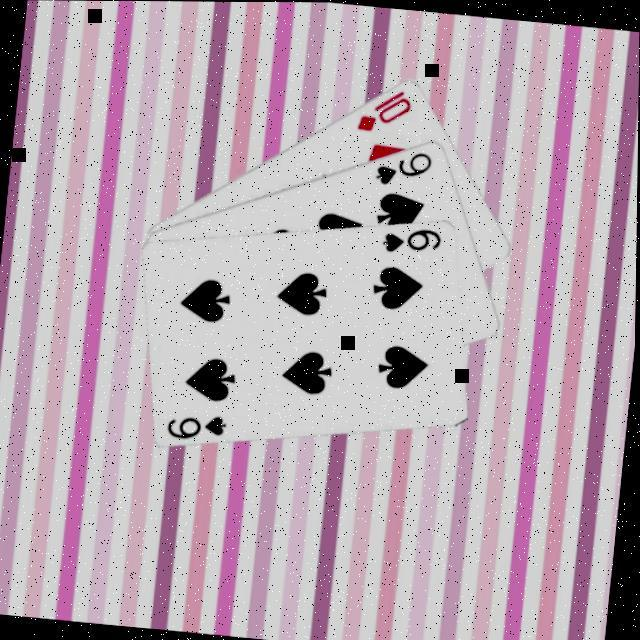10D: (352, 81, 415, 136)
6S: (378, 220, 445, 257), (163, 406, 230, 443)
9S: (371, 143, 435, 190)
